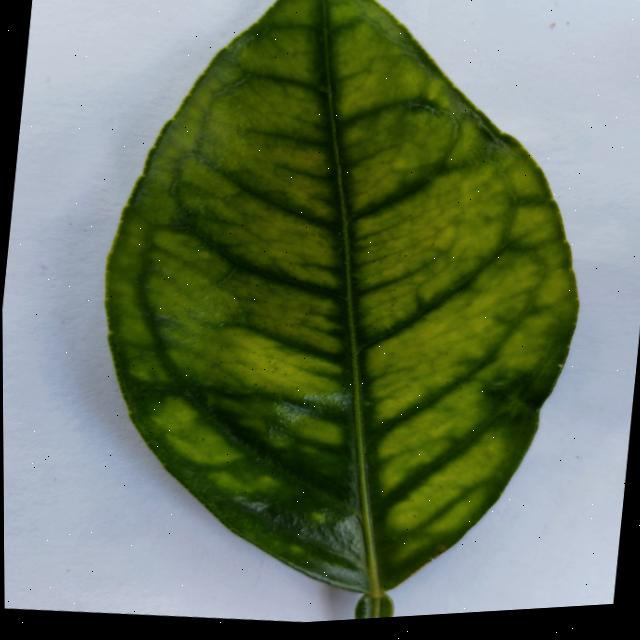greening: (106, 0, 577, 619)
